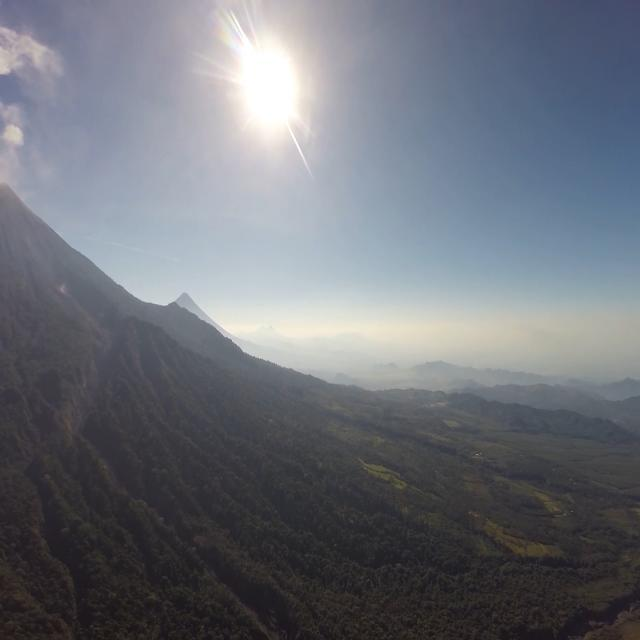Plume: (0, 2, 70, 80), (1, 102, 29, 160)
Summit: (0, 172, 22, 196)
